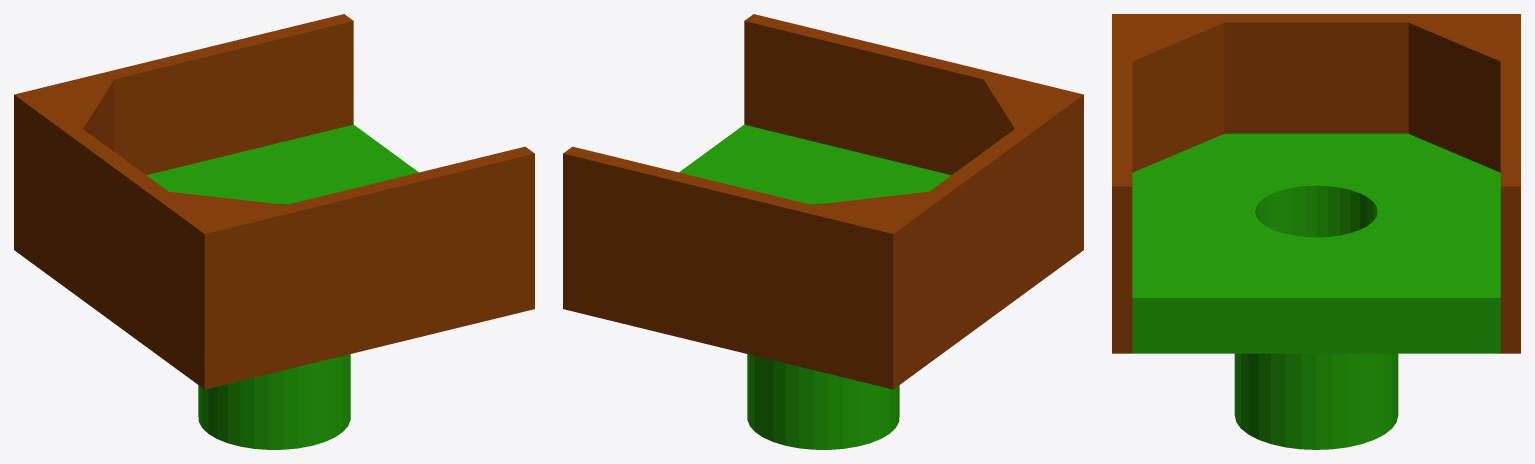
File: end_narrow.fbx
3 renders of one model, left to right at view 1: azimuth 30°, elevation 25°; view 2: azimuth 150°, elevation 25°; view 3: azimuth 270°, elevation 25°, orthographic. The views are drawn at different scales.
Visible parts, largest first — view 1: Plane; view 2: Plane; view 3: Plane.
Part boxes in pixels (x1,y1,x2,y2): Plane: (14,14,534,449); Plane: (563,14,1083,449); Plane: (1112,14,1520,449).
Size of the model in its own units: 200 by 170 by 200.
